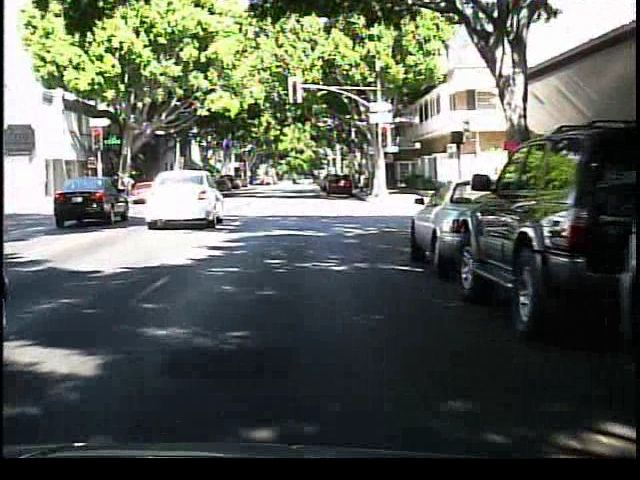person: (118, 162, 144, 203)
